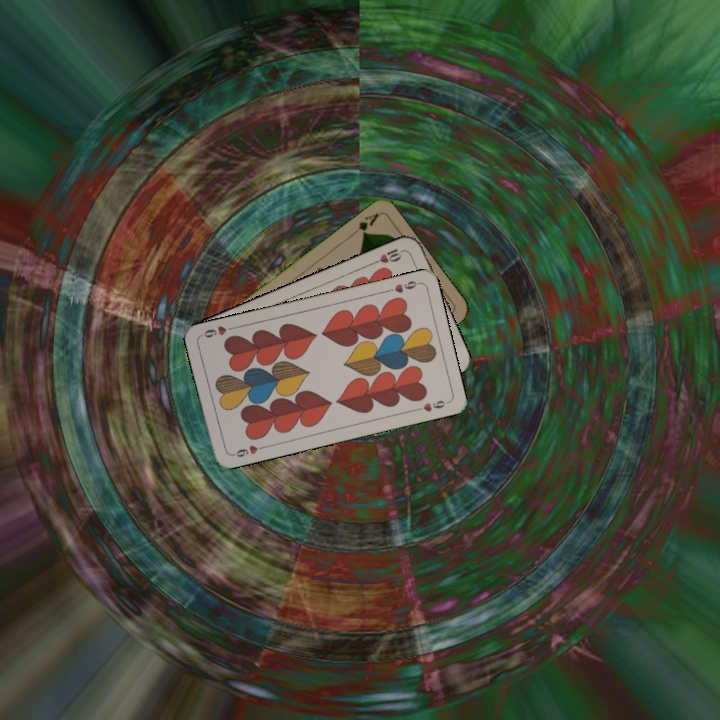GA: (346, 209, 381, 238)
H10: (369, 244, 408, 267)
H9: (382, 277, 422, 296), (227, 441, 267, 460)
